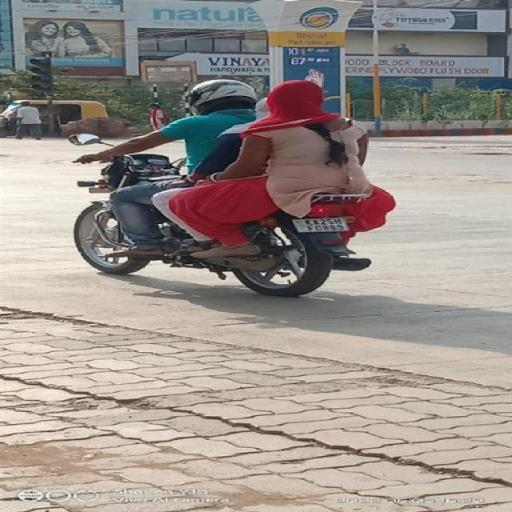tripple riding: (134, 74, 386, 189)
